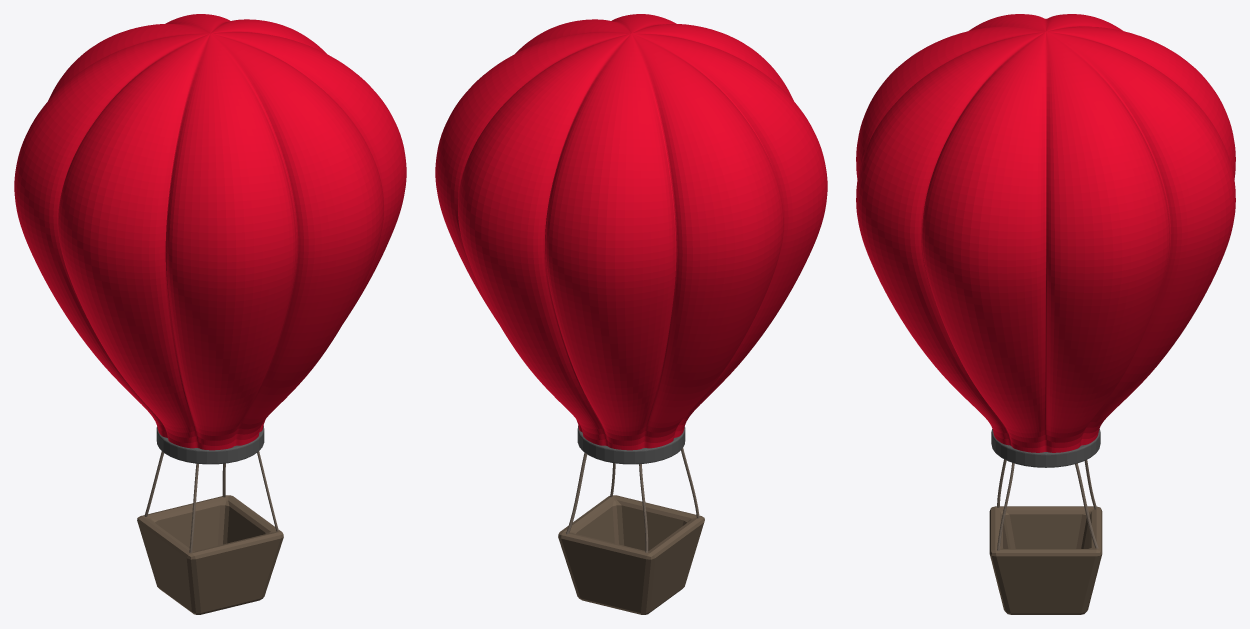
File: hotairballoon.fbx
3 views of the same model, side by side, from view 1: azimuth 30°, elevation 25°; view 2: azimuth 150°, elevation 25°; view 3: azimuth 270°, elevation 25° (orthographic).
Visible parts, largest first — view 1: Balloon, Basket, Bevel; view 2: Balloon, Basket, Bevel; view 3: Balloon, Basket, Bevel.
Part boxes in pixels (<box>): Balloon: <box>14,14,406,450</box>; Basket: <box>137,495,283,614</box>; Bevel: <box>156,426,264,464</box>; Balloon: <box>435,14,827,450</box>; Basket: <box>558,495,704,614</box>; Bevel: <box>577,426,685,464</box>; Balloon: <box>856,14,1235,452</box>; Basket: <box>989,506,1102,614</box>; Bevel: <box>991,429,1100,467</box>.
Bounding box in the file's own units: 1060 × 1749 × 1060.
